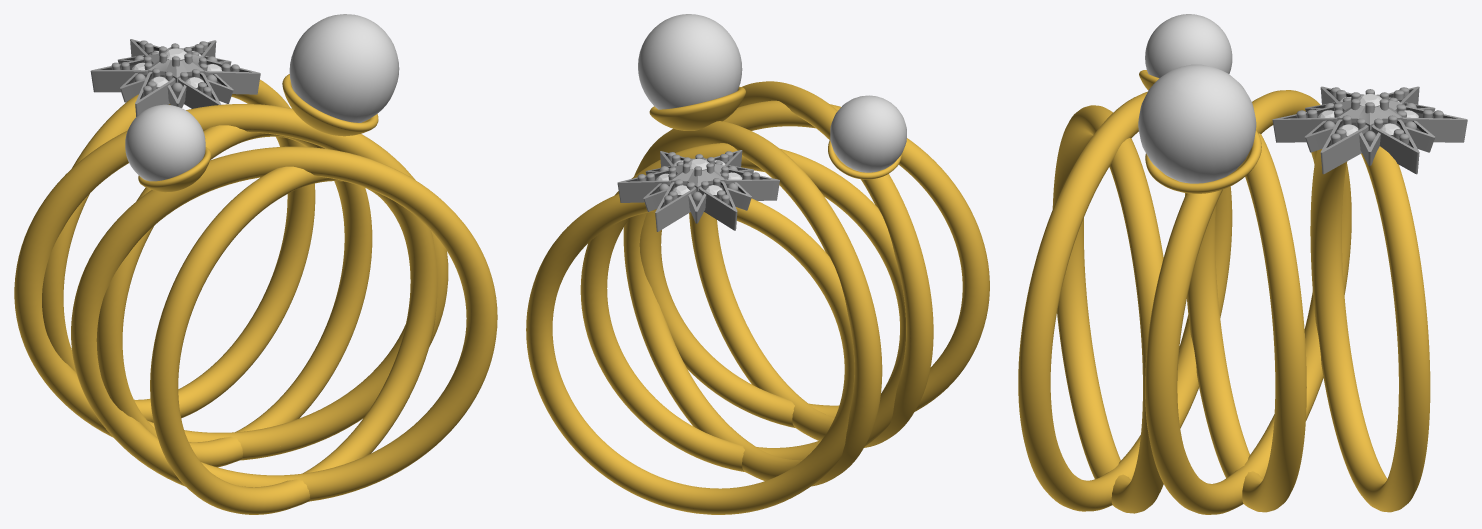
File: Ring_C_ShadowParts.fbx
The picture shows the model from 3 angles, left to right: view 1: azimuth 30°, elevation 25°; view 2: azimuth 150°, elevation 25°; view 3: azimuth 270°, elevation 25°; orthographic projection. The views are drawn at different scales.
Visible parts, largest first — view 1: Ring_C_ShadowParts_Object_01_Object, Ring_C_ShadowParts_Spheres_02_Object, Ring_C_ShadowParts_Object_02_Object1, Ring_C_Diamond_Object, Ring_C_ShadowParts_Object; view 2: Ring_C_ShadowParts_Object_01_Object, Ring_C_ShadowParts_Spheres_02_Object, Ring_C_ShadowParts_Object_02_Object1, Ring_C_Diamond_Object; view 3: Ring_C_ShadowParts_Object_01_Object, Ring_C_ShadowParts_Spheres_02_Object, Ring_C_ShadowParts_Object_02_Object1, Ring_C_Diamond_Object, Ring_C_ShadowParts_Object.
Part boxes in pixels (bbox=[...]): Ring_C_ShadowParts_Object_01_Object: bbox=[14, 74, 497, 514]; Ring_C_ShadowParts_Spheres_02_Object: bbox=[125, 14, 399, 181]; Ring_C_ShadowParts_Object_02_Object1: bbox=[90, 39, 260, 116]; Ring_C_Diamond_Object: bbox=[132, 48, 221, 87]; Ring_C_ShadowParts_Object: bbox=[100, 41, 251, 100]; Ring_C_ShadowParts_Object_01_Object: bbox=[526, 81, 989, 514]; Ring_C_ShadowParts_Spheres_02_Object: bbox=[638, 14, 906, 172]; Ring_C_ShadowParts_Object_02_Object1: bbox=[617, 150, 779, 231]; Ring_C_Diamond_Object: bbox=[656, 158, 742, 195]; Ring_C_ShadowParts_Object_01_Object: bbox=[1018, 70, 1430, 514]; Ring_C_ShadowParts_Spheres_02_Object: bbox=[1138, 14, 1256, 183]; Ring_C_ShadowParts_Object_02_Object1: bbox=[1272, 86, 1467, 174]; Ring_C_Diamond_Object: bbox=[1318, 94, 1418, 135]; Ring_C_ShadowParts_Object: bbox=[1283, 89, 1457, 147].
Bounding box in the file's own units: 1.9 × 2.27 × 1.96.
